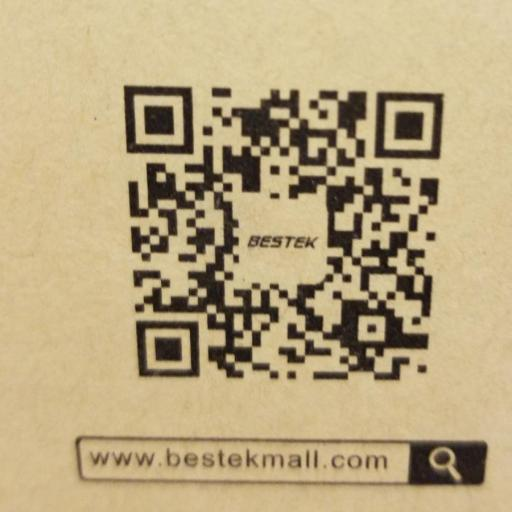QR_CODE: (104, 68, 467, 398)
